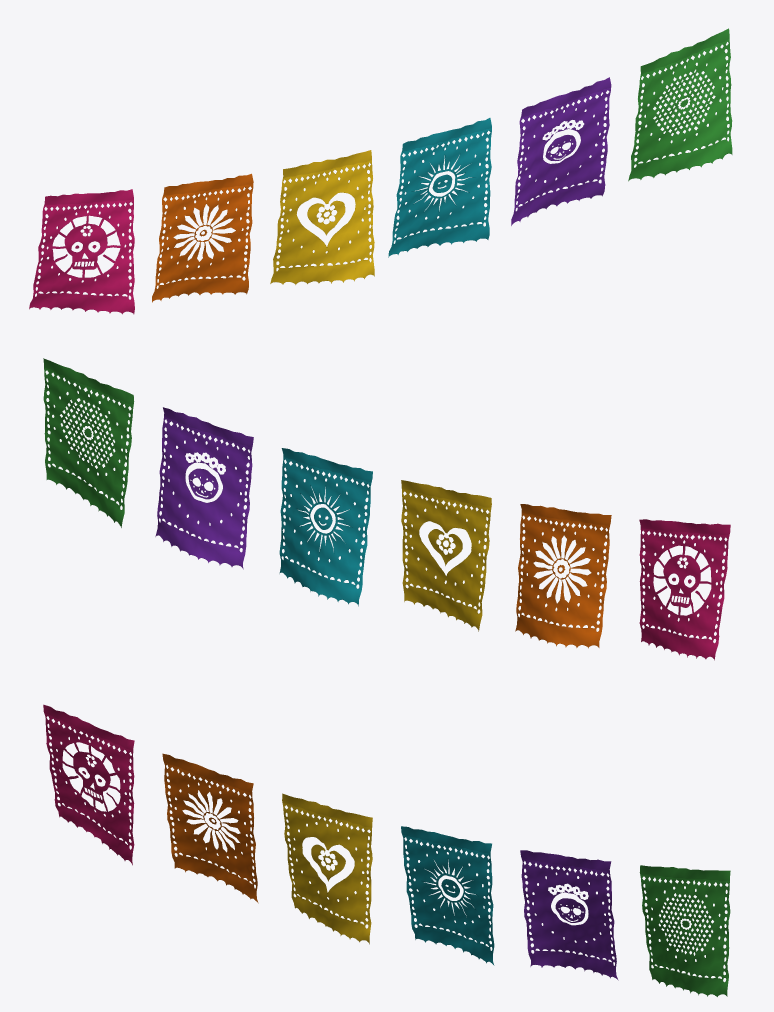
The model's file is w6_papel_picado_banner.glb.
The picture shows the model from 3 angles, top to bottom: view 1: azimuth 30°, elevation 25°; view 2: azimuth 150°, elevation 25°; view 3: azimuth 330°, elevation 25°; orthographic projection.
Parts seen in each view (by area): view 1: w6_papel_picado_banner; view 2: w6_papel_picado_banner; view 3: w6_papel_picado_banner.
Part boxes in pixels (<box>): w6_papel_picado_banner: <box>29,28,732,314</box>; w6_papel_picado_banner: <box>43,358,730,660</box>; w6_papel_picado_banner: <box>43,704,730,996</box>.
Bounding box in the file's own units: 2.5 × 0.5342 × 0.1089.
1 material, 1 textured.
